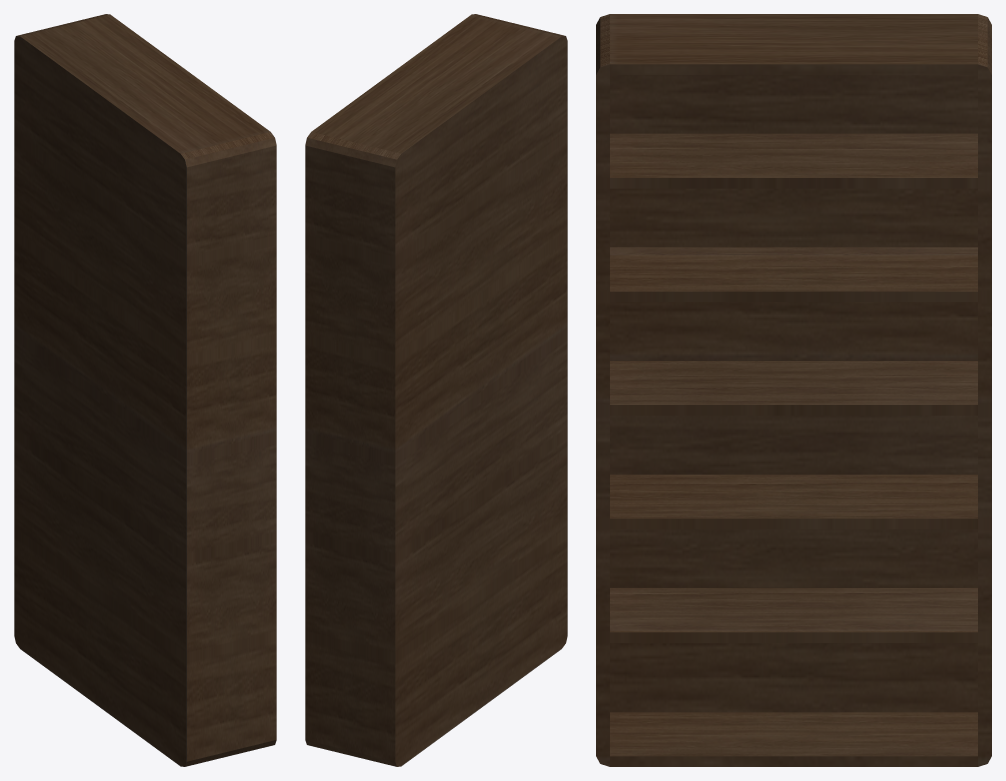
The model's file is Raf_son_unwrap.fbx.
3 views of the same model, side by side, from view 1: azimuth 30°, elevation 25°; view 2: azimuth 150°, elevation 25°; view 3: azimuth 270°, elevation 25° (orthographic). The views are drawn at different scales.
Parts seen in each view (by area): view 1: Cube; view 2: Cube; view 3: Cube.
Part boxes in pixels (x1=…): Cube: x1=14, y1=14, x2=276, y2=766; Cube: x1=305, y1=14, x2=567, y2=766; Cube: x1=596, y1=14, x2=991, y2=766.
Bounding box in the file's own units: 2194 × 14260 × 7278.
